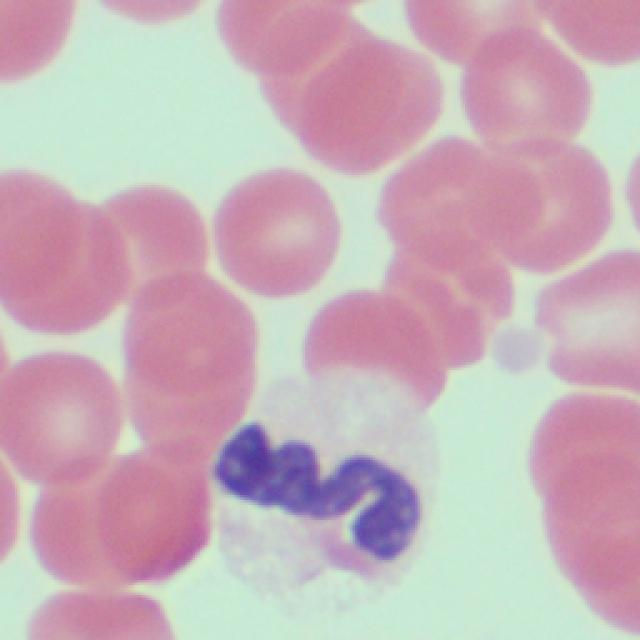RBC: (268, 20, 433, 178), (532, 392, 639, 630), (118, 273, 258, 444), (0, 162, 125, 336), (474, 130, 610, 282), (37, 454, 190, 585), (464, 2, 588, 156), (210, 162, 340, 303), (1, 346, 123, 489), (526, 256, 637, 400), (0, 0, 80, 89)
WBC: (212, 362, 442, 608)
